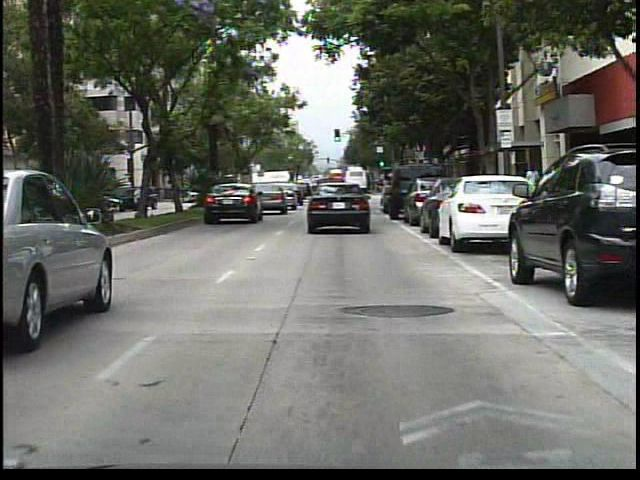person: (521, 157, 545, 225)
